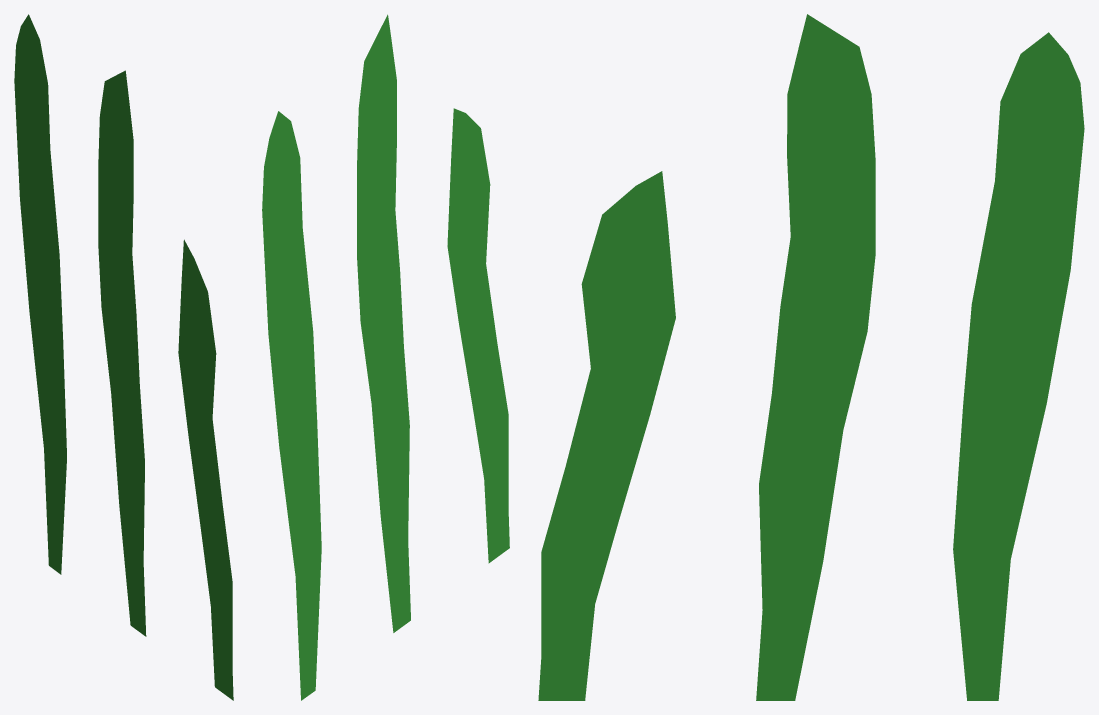
The model's file is Grass.fbx_Blade1.fbx.
3 renders of one model, left to right at view 1: azimuth 30°, elevation 25°; view 2: azimuth 150°, elevation 25°; view 3: azimuth 270°, elevation 25°, orthographic. The views are drawn at different scales.
Visible parts, largest first — view 1: Blade2, Blade1, Blade3; view 2: Blade2, Blade1, Blade3; view 3: Blade2, Blade1, Blade3.
Boxes of the visible parts, box(x1,y1,x2,y2) form: Blade2: box(98, 70, 146, 636); Blade1: box(14, 14, 66, 574); Blade3: box(178, 239, 233, 700); Blade2: box(357, 14, 410, 632); Blade1: box(262, 111, 321, 700); Blade3: box(447, 108, 509, 563); Blade2: box(756, 14, 875, 700); Blade1: box(953, 32, 1084, 700); Blade3: box(538, 171, 675, 700).
Bounding box in the file's own units: 0.0161 × 34.22 × 24.65.
